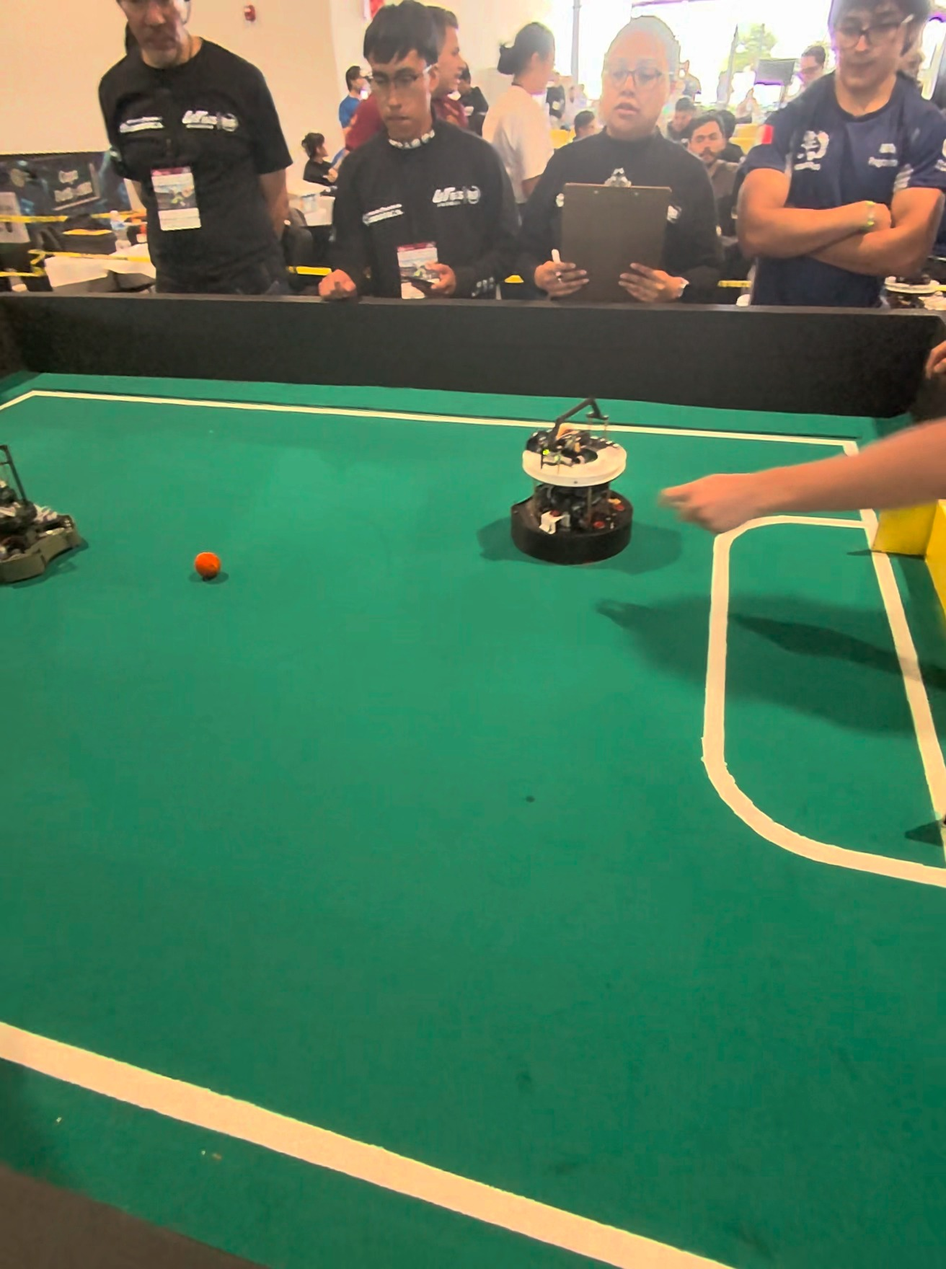Robot: (502, 395, 635, 569), (0, 436, 79, 586)
pelota: (184, 548, 245, 592)
